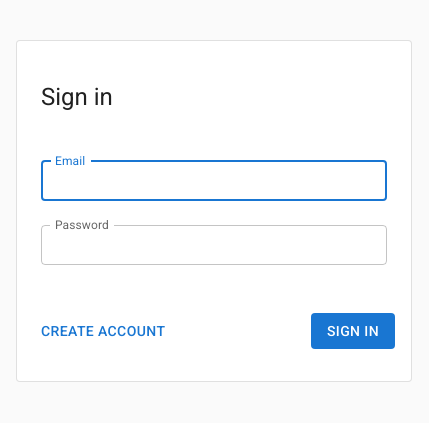
Test: Navigation › should display validation error for  wrong password
Type "test@example.com" into the field named "email" at {"x": 214, "y": 181}, box [41,161,387,201]
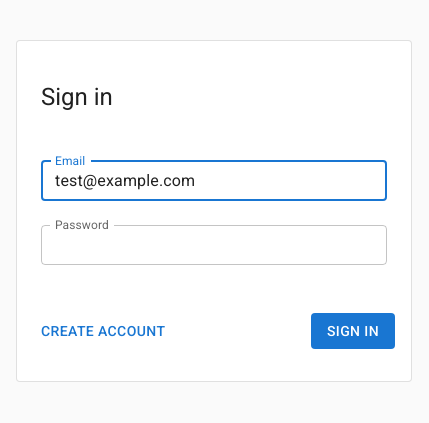
Type "password" into the password field named "password" at {"x": 214, "y": 245}, box [41,225,387,265]
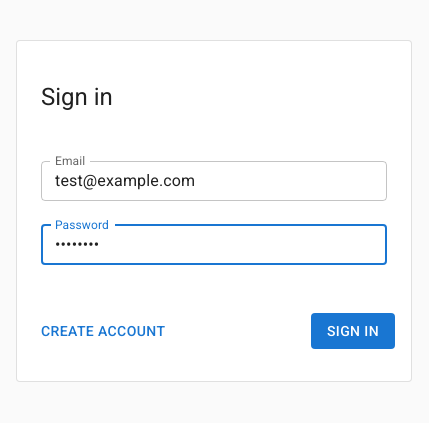
Click the submit button at {"x": 353, "y": 332}, box [311,313,395,350]
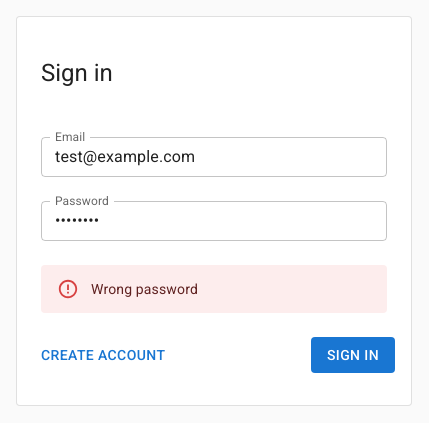
Check: the text "Wrong password" is shown, box [91,281,198,297]
